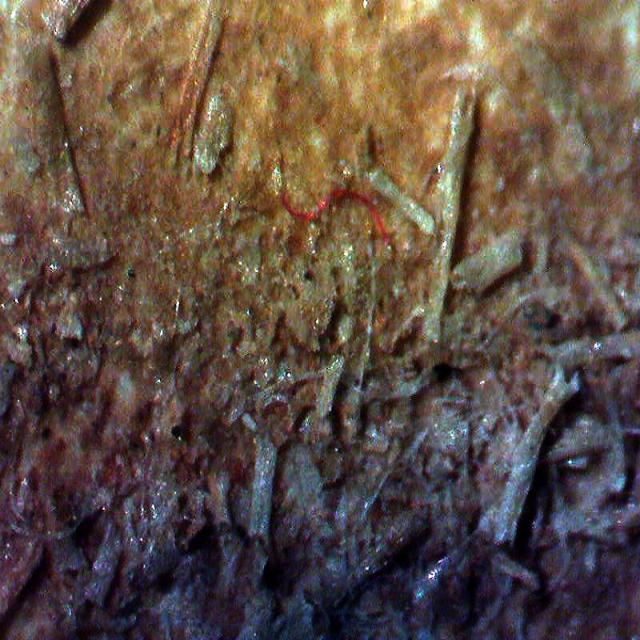microplastic: (275, 167, 404, 254)
